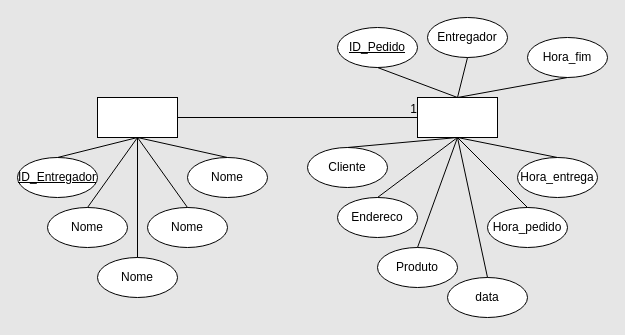
Image size: 625x335. Some labels were removed from this diagram. Here are the shapes that lost their labels. From the top down, the centre of each, then its label:
At point 137,117: "entregadores".
At point 457,117: "pedidos".
